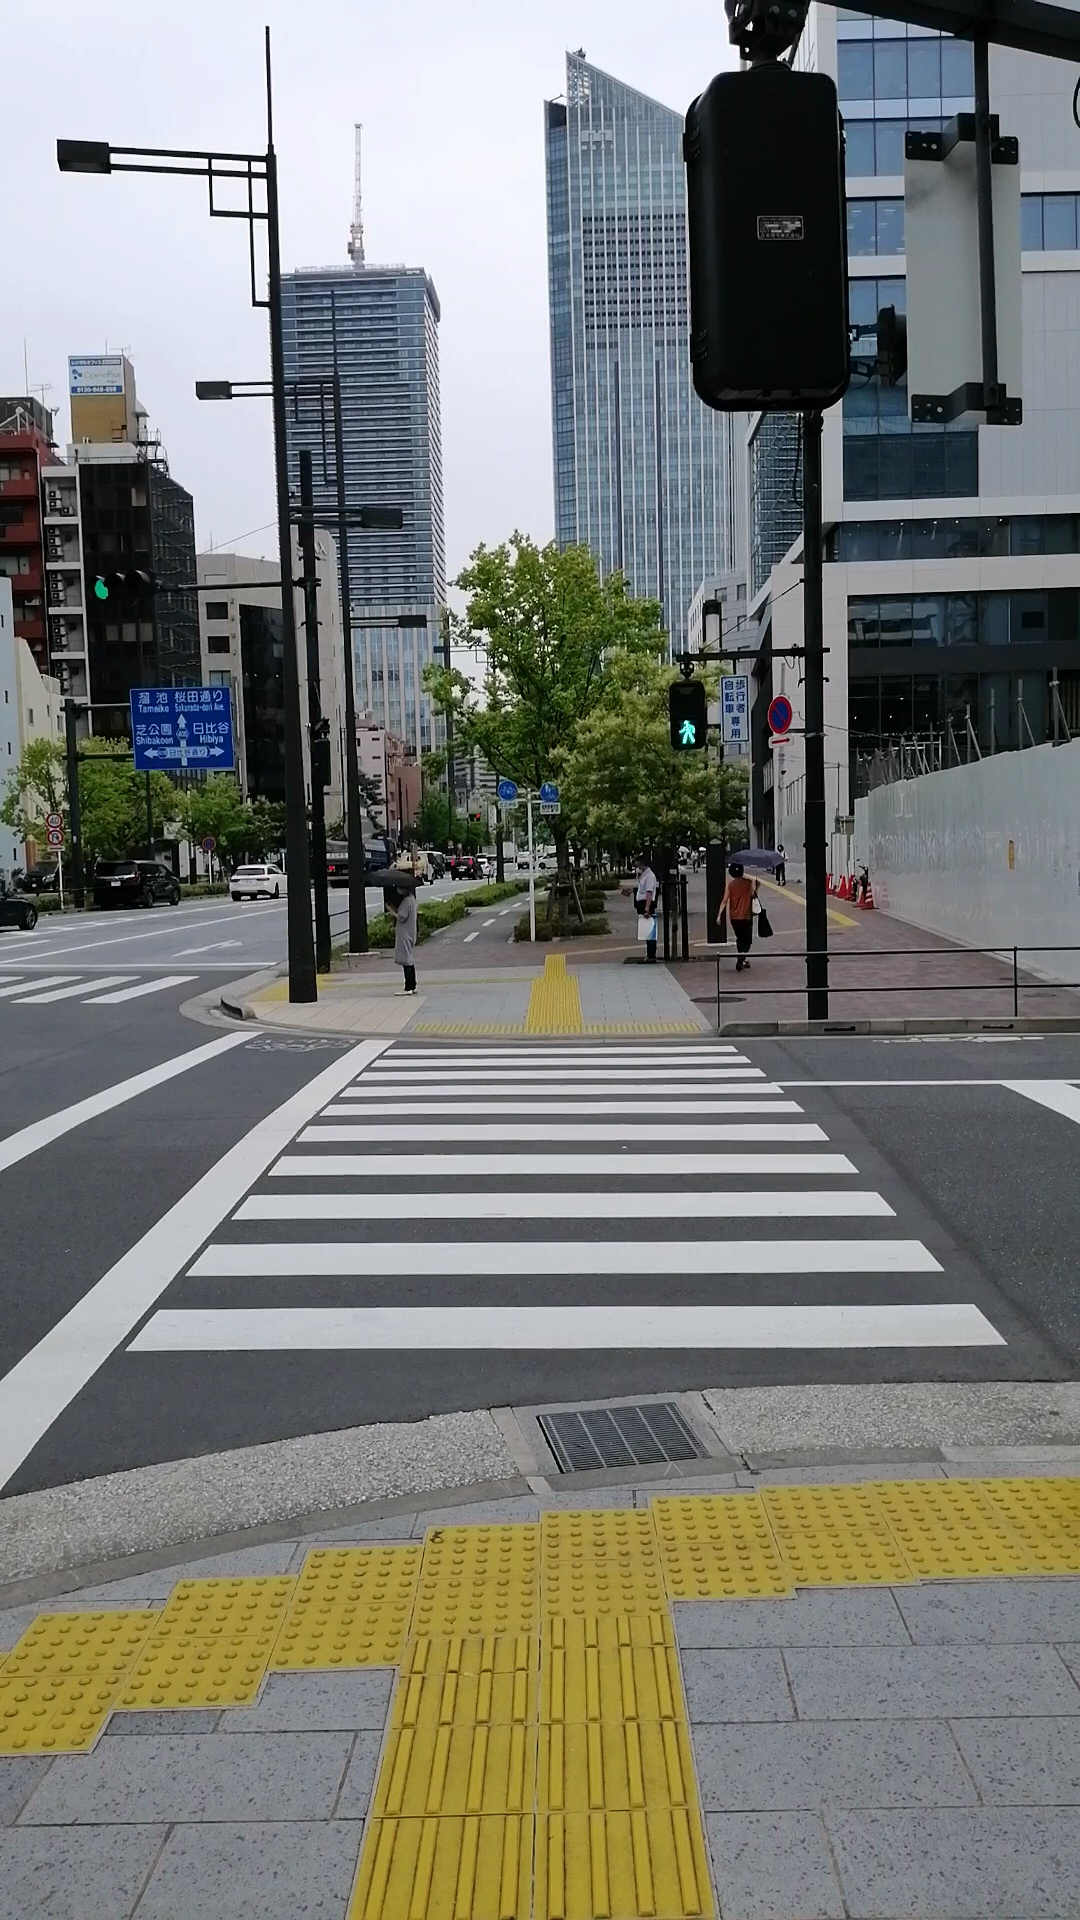green: (669, 679, 705, 750)
